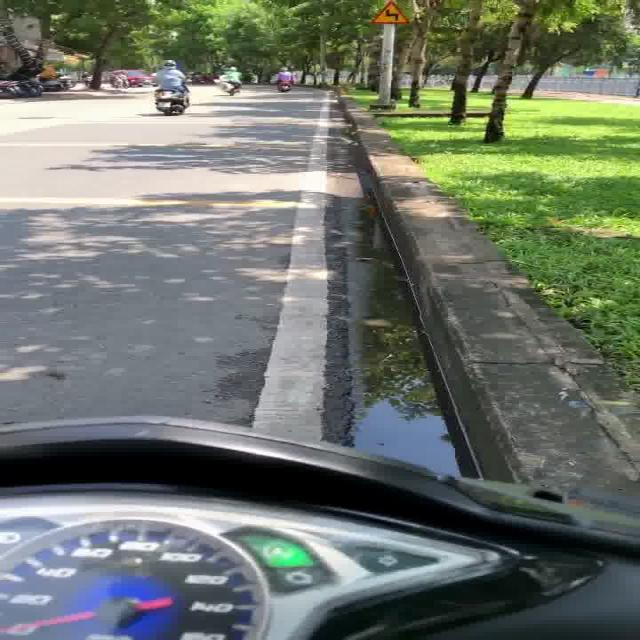Bien bao nhieu cho ngoat nguy hiem lien tiep: (365, 0, 421, 27)
